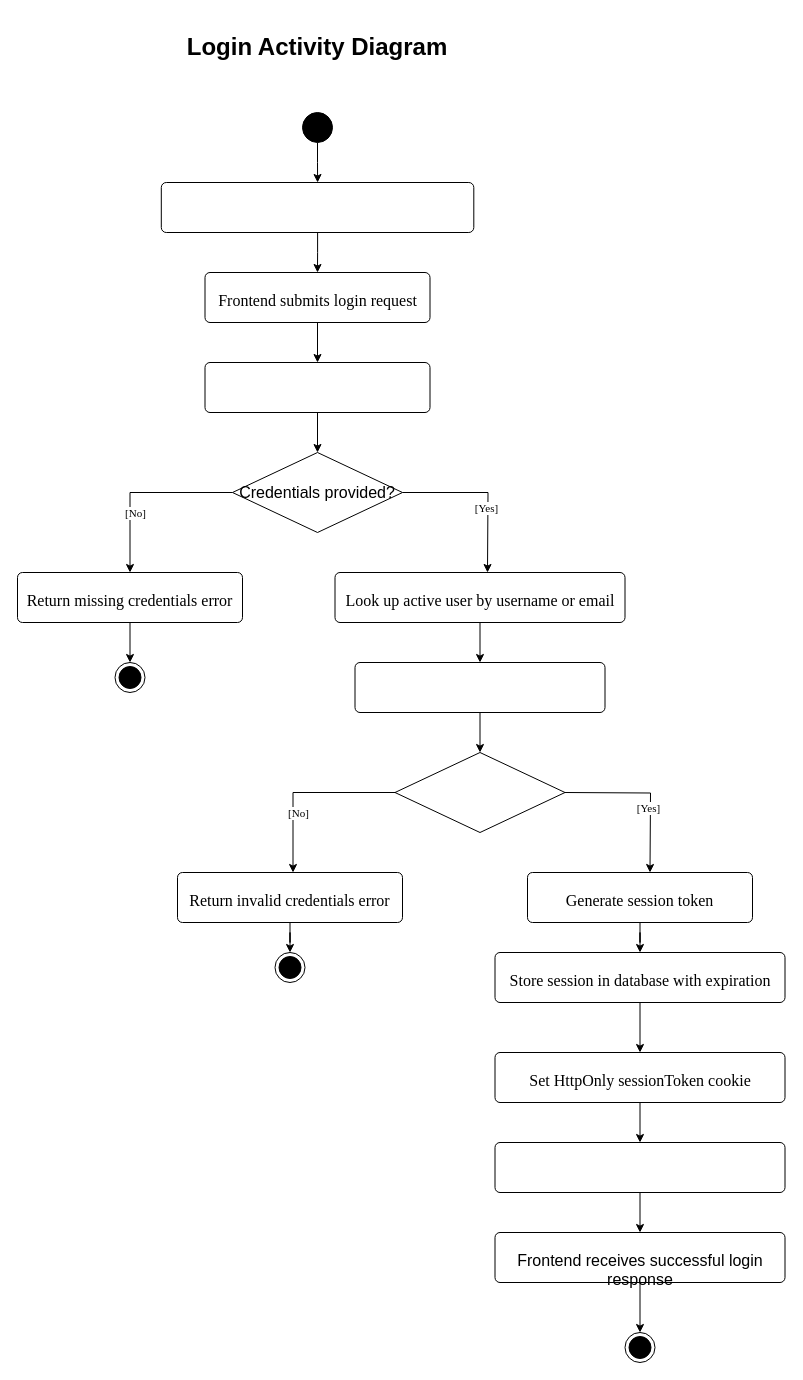
Some shapes in this 803 by 1380 pixel diagram are drawn without their labels. The centre of each missing label's shape, as x and y in pixels:
Backend receives login request: pixel 317 387
Credentials valid?: pixel 479 792
Return authenticated user and session token: pixel 639 1167
User enters username or email and password: pixel 317 207
Validate password against stored hash: pixel 479 687
